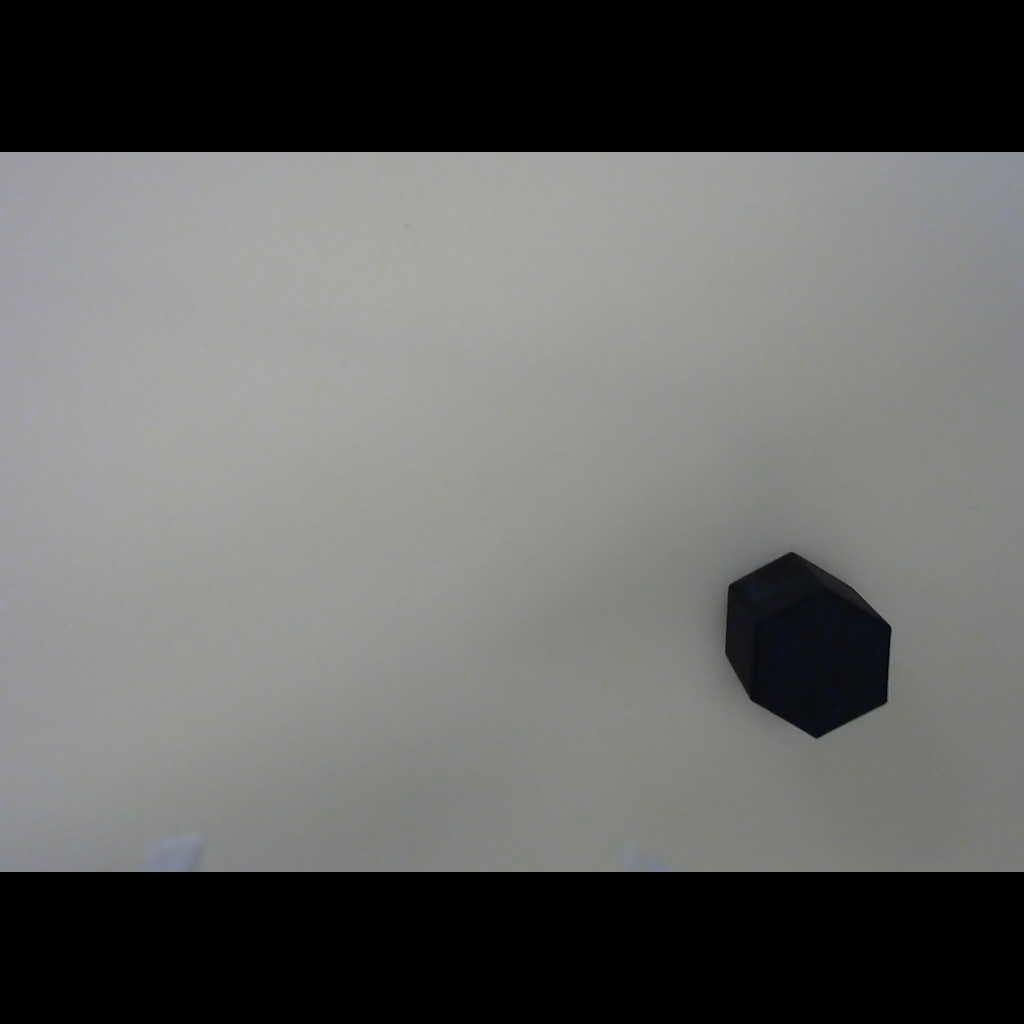hexagon: (700, 538, 914, 754)
